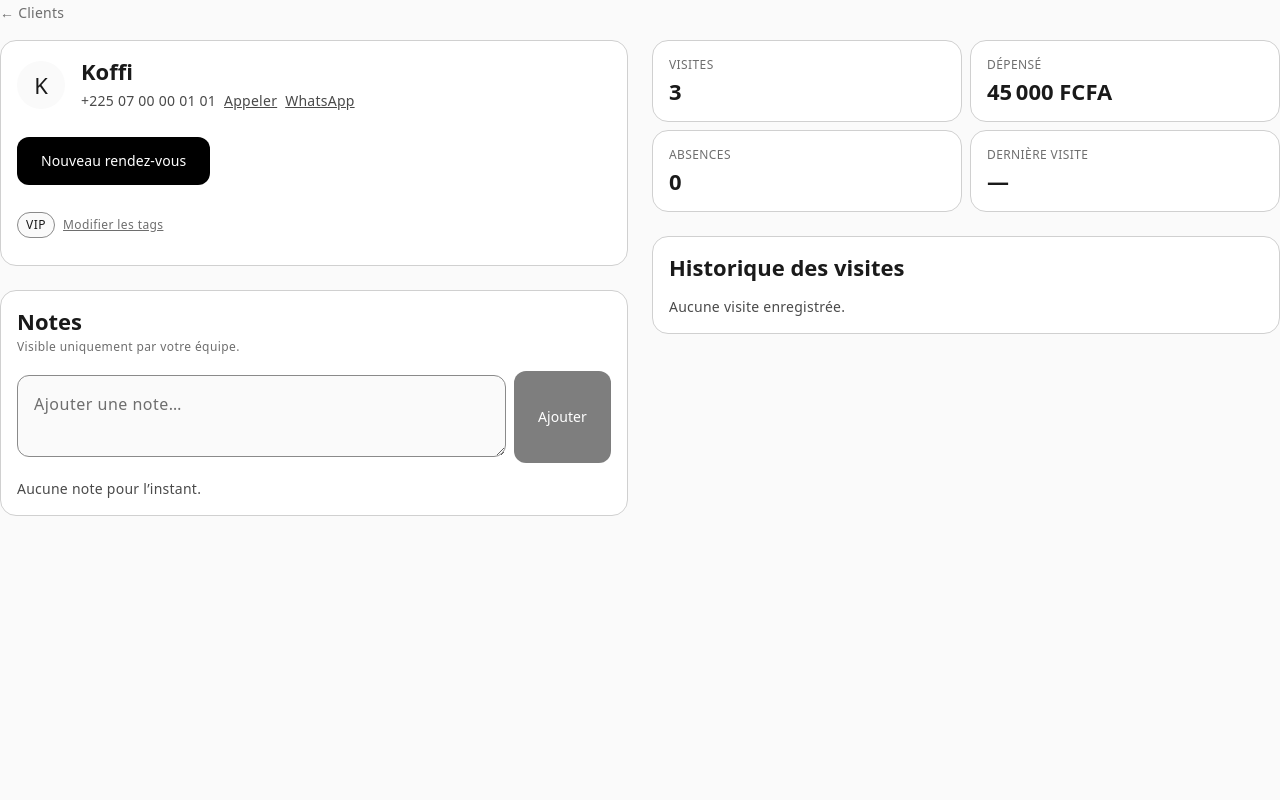
it: ClientCardClient — the phone line › « Nouveau rendez-vous » books with the STORED number — the grouping never reaches the POST
Click the button "Nouveau rendez-vous".
click(114, 161)  # box x1=17 y1=137 x2=210 y2=185
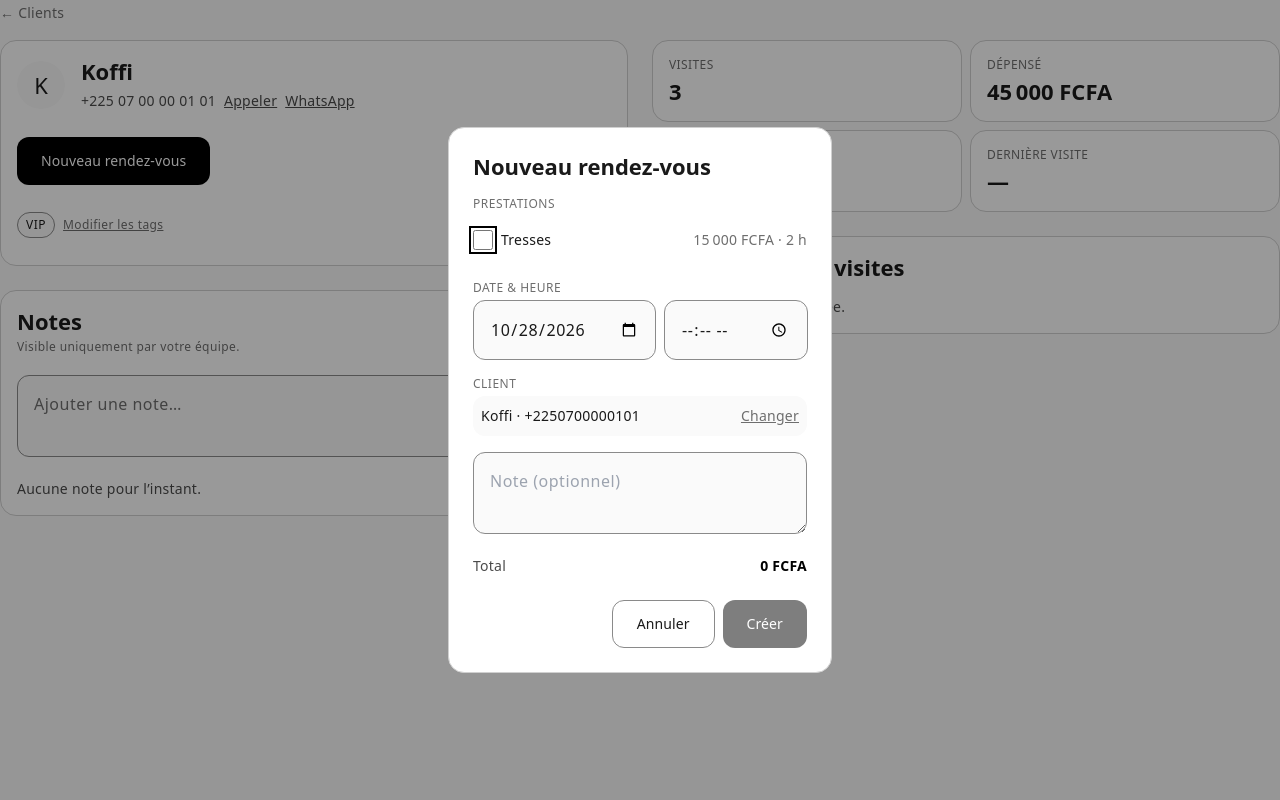
Click the checkbox labelled "Tresses 15 000 FCFA · 2 h".
click(483, 240)  # box x1=473 y1=230 x2=493 y2=250
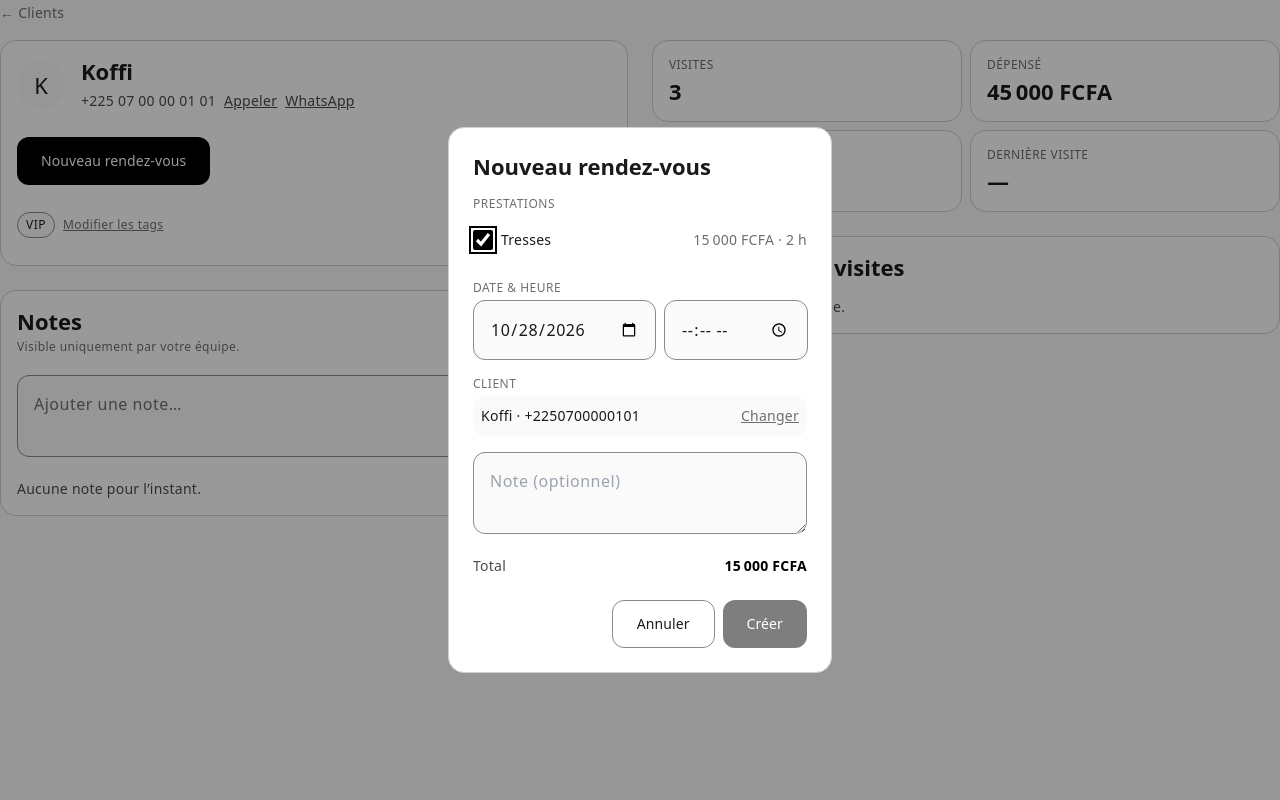
Type "2099-01-15" into the date field named "Date du rendez-vous".
click(564, 330); type("2099-01-15")  # box x1=473 y1=300 x2=656 y2=360
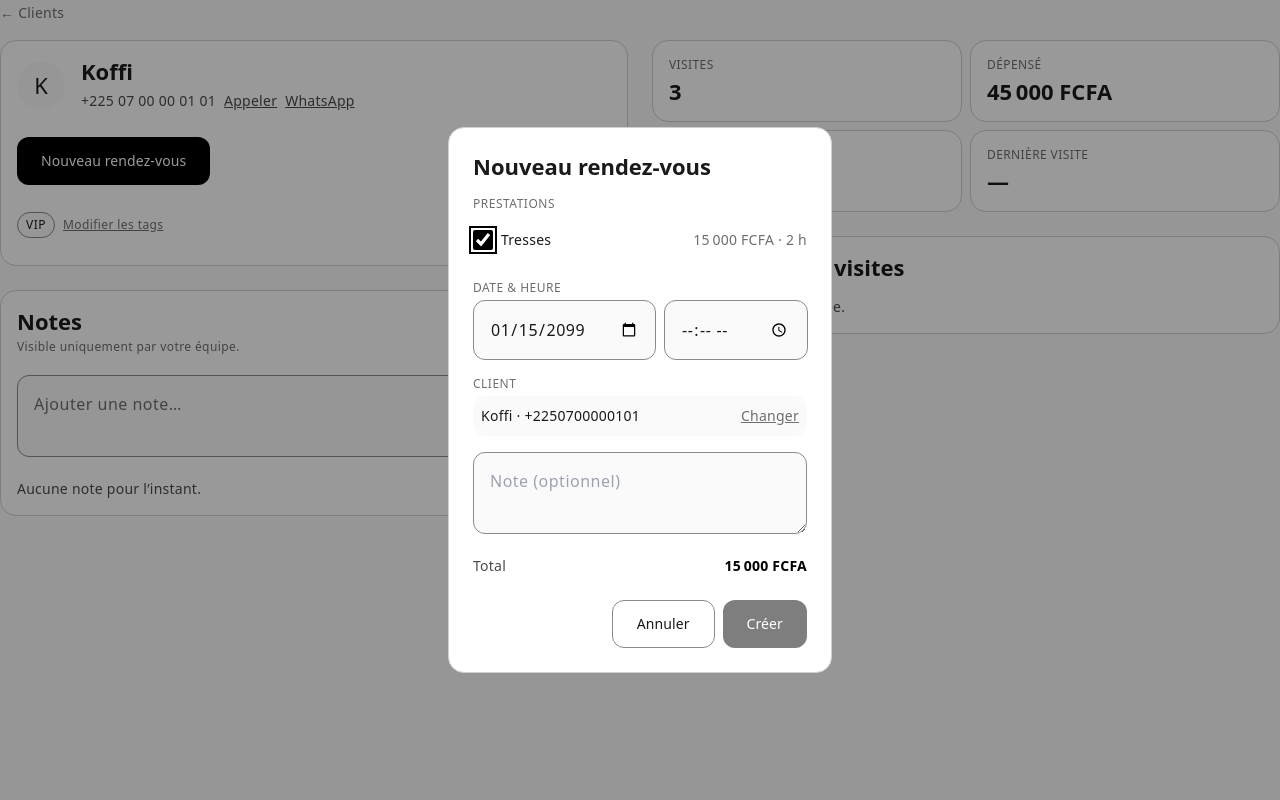
Type "14:30" into the time field named "Heure du rendez-vous".
click(736, 330); type("14:30")  # box x1=664 y1=300 x2=808 y2=360
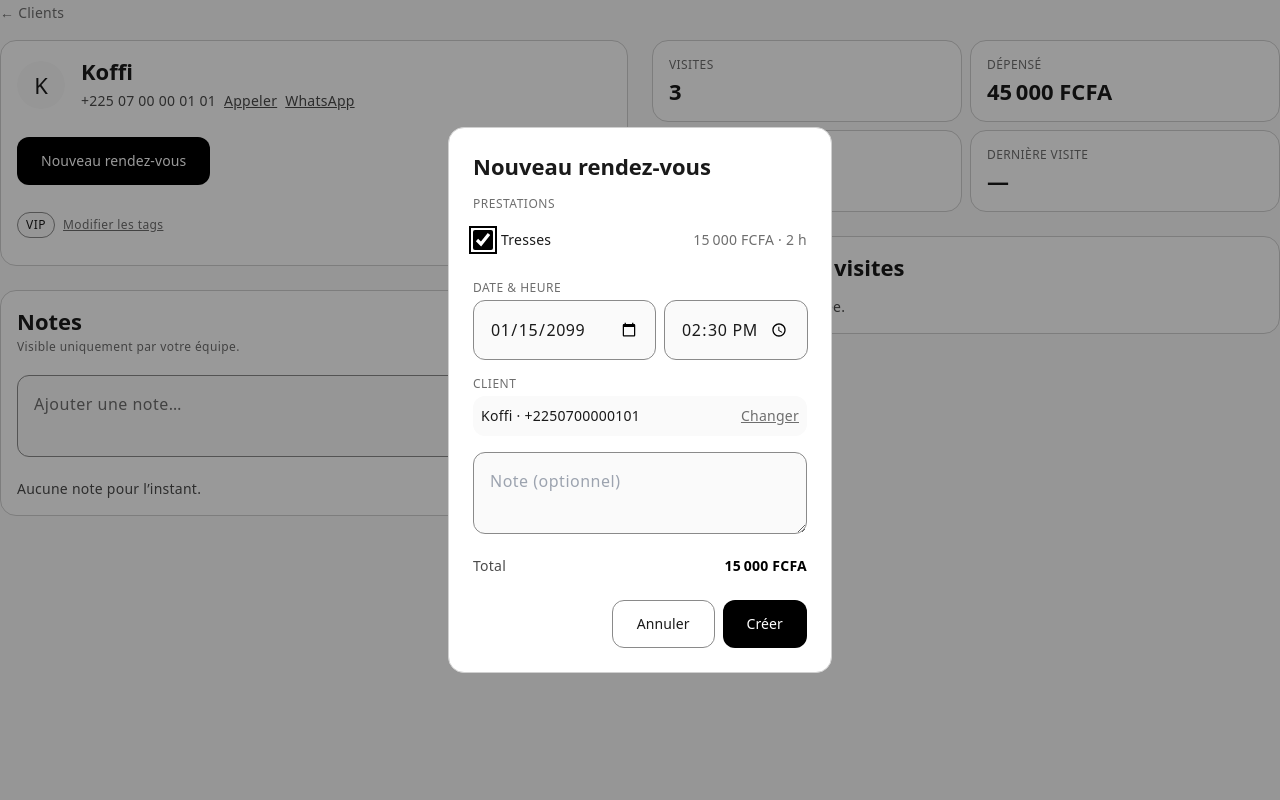
Click the button "Créer".
click(765, 624)  # box x1=723 y1=600 x2=807 y2=648
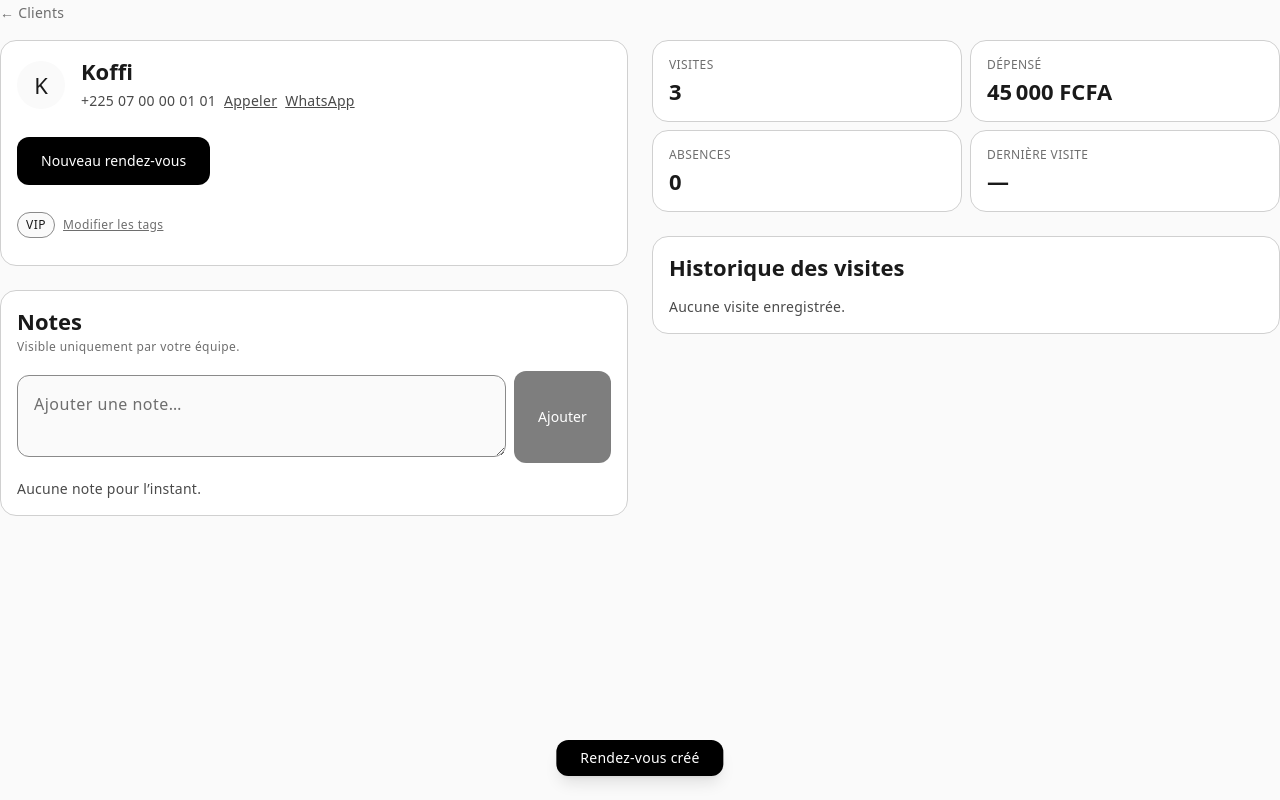
Check: the text "Koffi" is shown, box x1=81 y1=57 x2=133 y2=85
Check: the text "Rendez-vous créé" is shown, box x1=556 y1=740 x2=724 y2=776
Check: the dialog is gone
